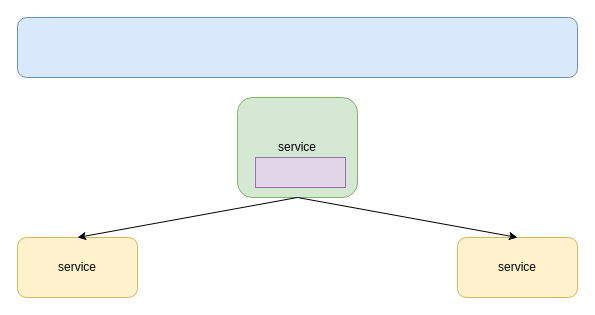
Some shapes in this 595 by 315 pixel diagram are drawn without their labels. Each missing label, with the box of its shape:
conn pool: (254, 156, 346, 188)
web-server: (16, 16, 578, 78)
